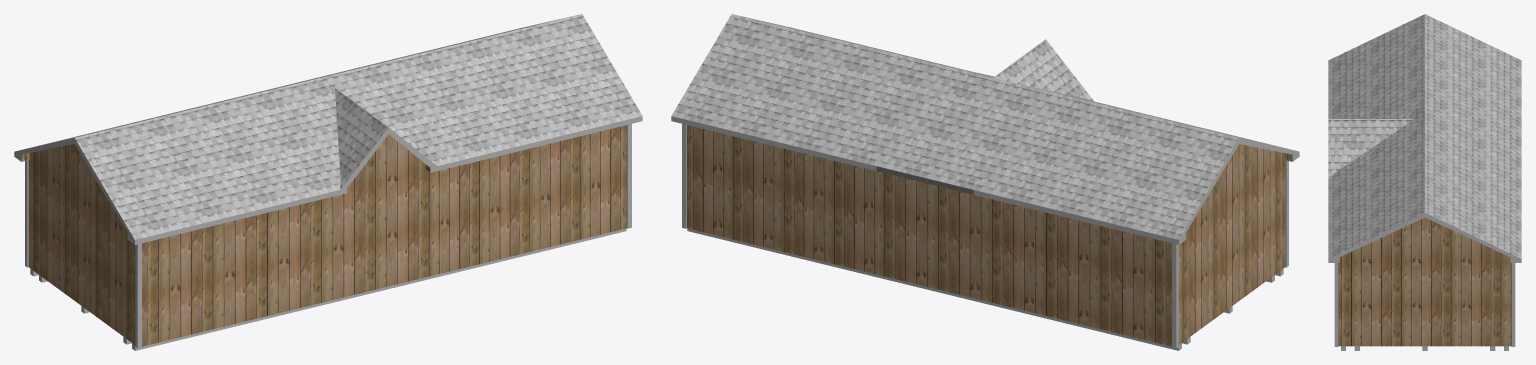
The model's file is Victorian Shed_12x28.obj.
The picture shows the model from 3 angles, left to right: view 1: azimuth 30°, elevation 25°; view 2: azimuth 150°, elevation 25°; view 3: azimuth 270°, elevation 25°; orthographic projection. The views are drawn at different scales.
Visible parts, largest first — view 1: Shed, Roof, Sides, Floor, Trim; view 2: Shed, Roof, Sides, Floor, Trim; view 3: Roof, Shed, Sides, Trim.
Part boxes in pixels (x1=…): Shed: x1=21, y1=125, x2=626, y2=346; Roof: x1=23, y1=14, x2=642, y2=239; Sides: x1=14, y1=116, x2=642, y2=244; Floor: x1=30, y1=228, x2=626, y2=350; Trim: x1=25, y1=124, x2=631, y2=348; Shed: x1=687, y1=125, x2=1292, y2=346; Roof: x1=671, y1=14, x2=1290, y2=239; Sides: x1=671, y1=116, x2=1299, y2=244; Floor: x1=687, y1=228, x2=1283, y2=350; Trim: x1=682, y1=124, x2=1288, y2=348; Roof: x1=1328, y1=14, x2=1521, y2=258; Shed: x1=1338, y1=217, x2=1511, y2=346; Sides: x1=1328, y1=213, x2=1521, y2=262; Trim: x1=1334, y1=263, x2=1515, y2=346.
Bounding box in the file's own units: 9.45 × 3.14 × 3.89.
